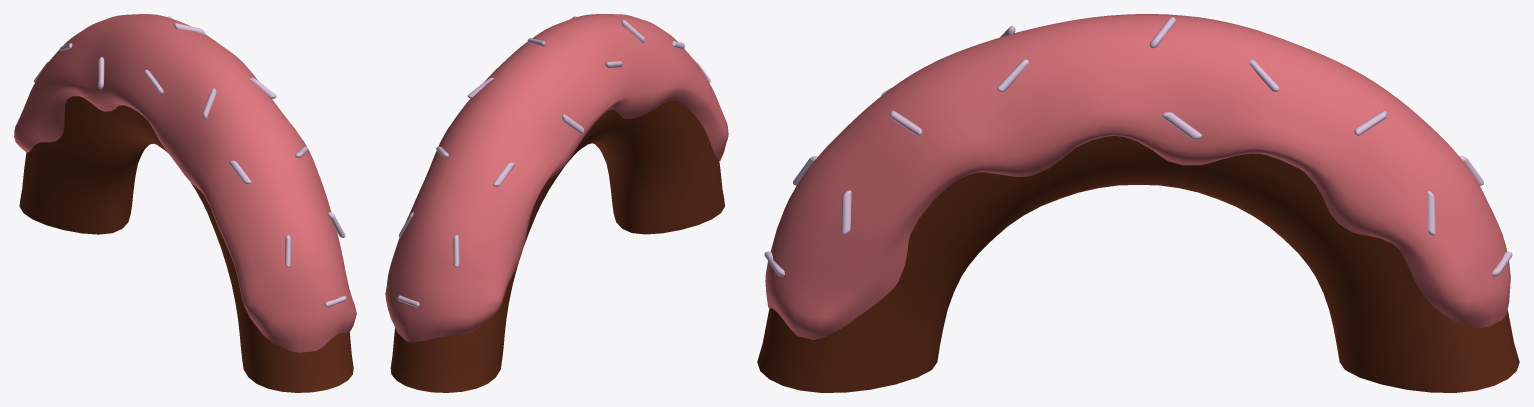
Rendered from SM_Donut.fbx.
The picture shows the model from 3 angles, left to right: view 1: azimuth 30°, elevation 25°; view 2: azimuth 150°, elevation 25°; view 3: azimuth 270°, elevation 25°; orthographic projection. The views are drawn at different scales.
Visible parts, largest first — view 1: SM_Donut; view 2: SM_Donut; view 3: SM_Donut.
Boxes of the visible parts, x1,y1,x2,y2 form: SM_Donut: (14, 14, 356, 392); SM_Donut: (385, 14, 728, 392); SM_Donut: (757, 14, 1519, 392).
Bounding box in the file's own units: 0.8262 × 1.78 × 3.56.
